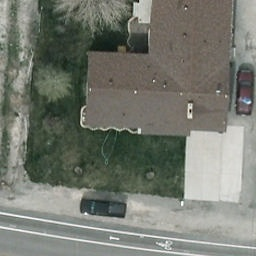car: (233, 70, 255, 117)
pickup: (76, 198, 130, 221)
